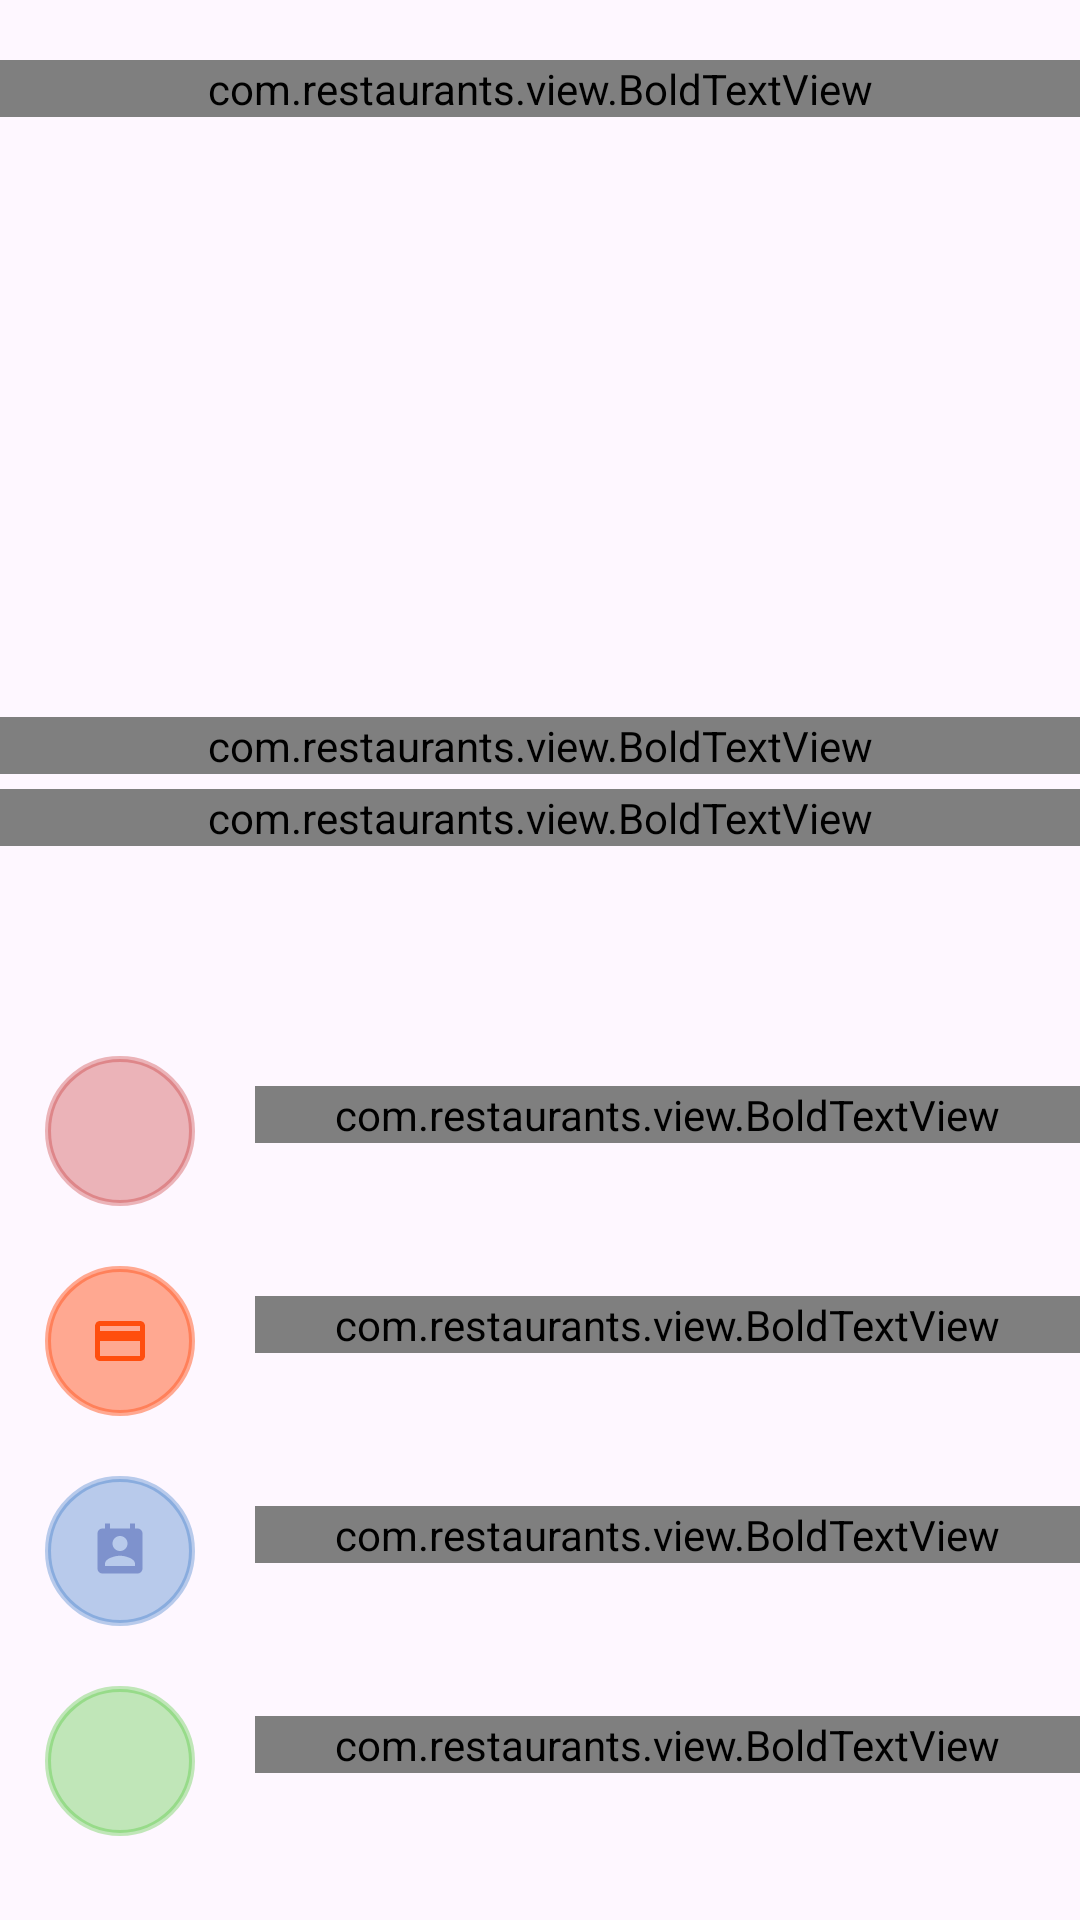

Point at icon controls on the screen. Image size 1080×1920, points as [x,y].
contact: [120,1551]
payment: [120,1341]
